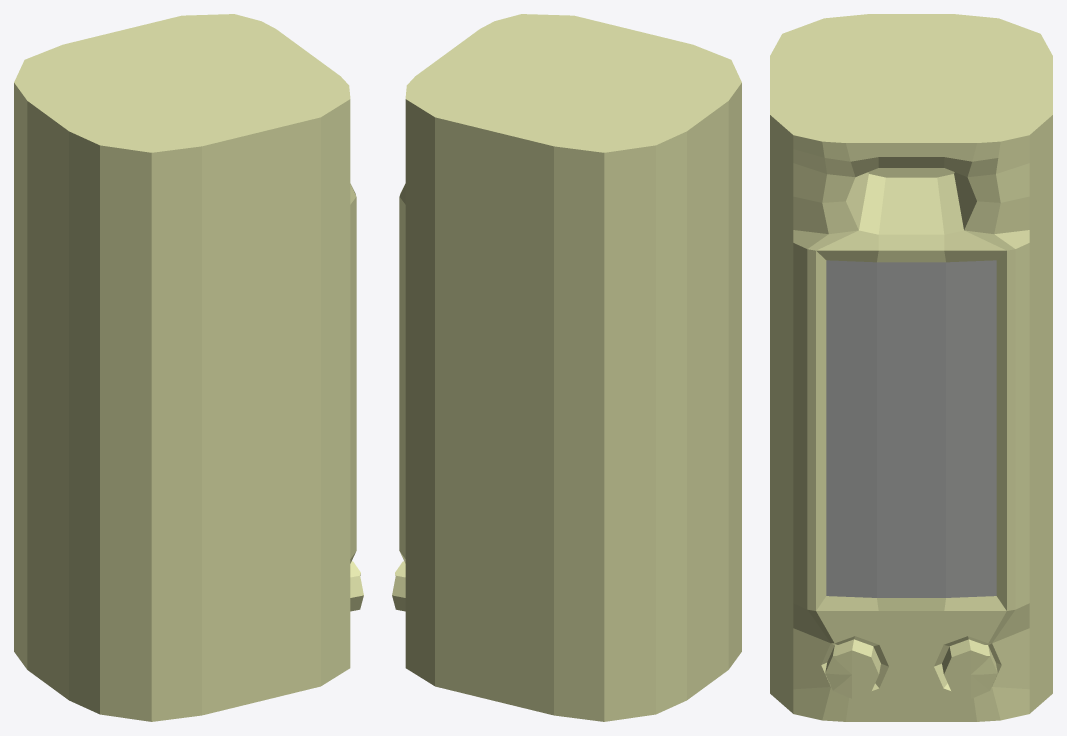
The model's file is speaker1.fbx.
The picture shows the model from 3 angles, left to right: view 1: azimuth 30°, elevation 25°; view 2: azimuth 150°, elevation 25°; view 3: azimuth 270°, elevation 25°; orthographic projection.
Parts seen in each view (by area): view 1: Cube; view 2: Cube; view 3: Cube.
Part boxes in pixels (box(x1,y1,x2,y2)): Cube: box(14, 14, 363, 721); Cube: box(392, 14, 741, 721); Cube: box(770, 14, 1052, 721).
Bounding box in the file's own units: 212 × 418 × 185.
